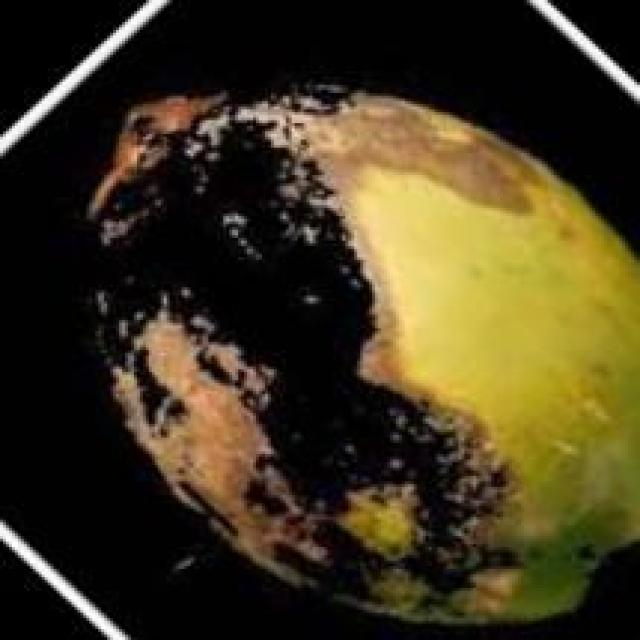damaged: (51, 79, 637, 637)
